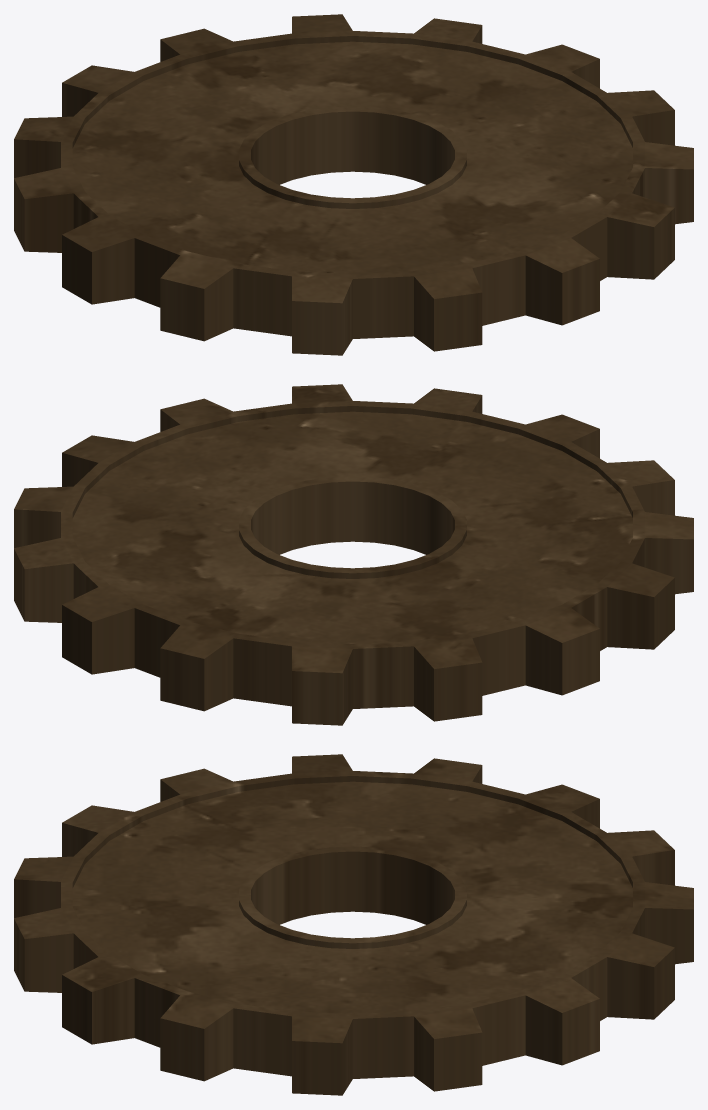
File: gear3.fbx
3 renders of one model, top to bottom at view 1: azimuth 30°, elevation 25°; view 2: azimuth 150°, elevation 25°; view 3: azimuth 270°, elevation 25°, orthographic.
Visible parts, largest first — view 1: gear_3; view 2: gear_3; view 3: gear_3.
Part boxes in pixels (x1=…): gear_3: x1=14, y1=14, x2=693, y2=355; gear_3: x1=14, y1=384, x2=693, y2=725; gear_3: x1=14, y1=754, x2=693, y2=1095.
Size of the model in its own units: 11.82 by 1.15 by 11.75.
